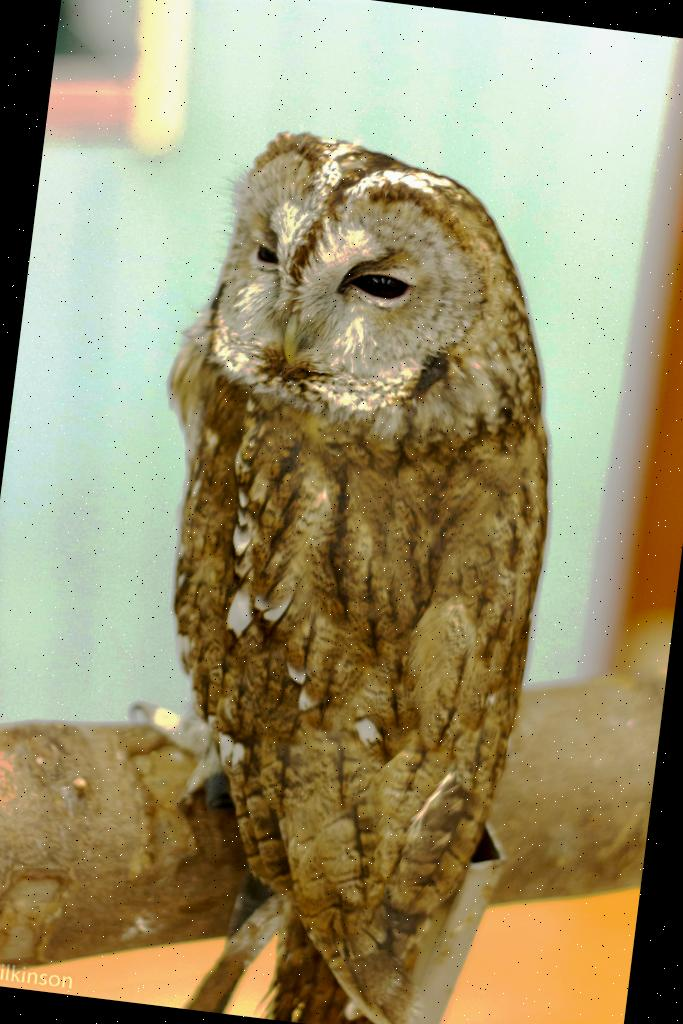Owl: (87, 116, 588, 1024)
